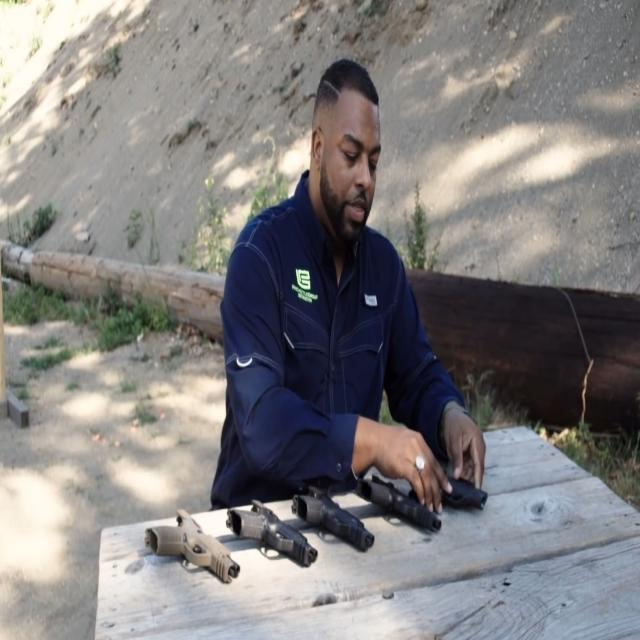handgun: (137, 498, 236, 590), (220, 484, 320, 572), (347, 460, 448, 540), (286, 468, 378, 554), (410, 457, 490, 517)
